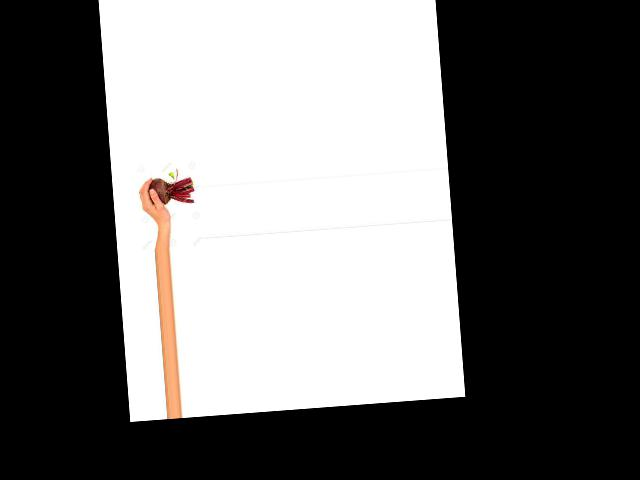beet: (146, 167, 195, 205)
